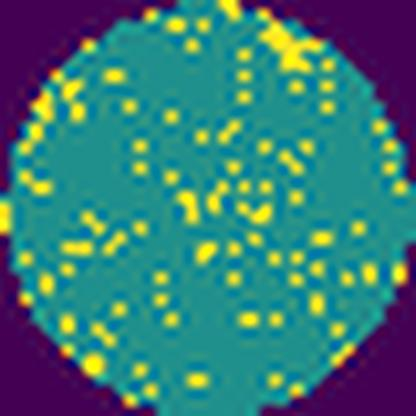Loc: (259, 12, 325, 75)
